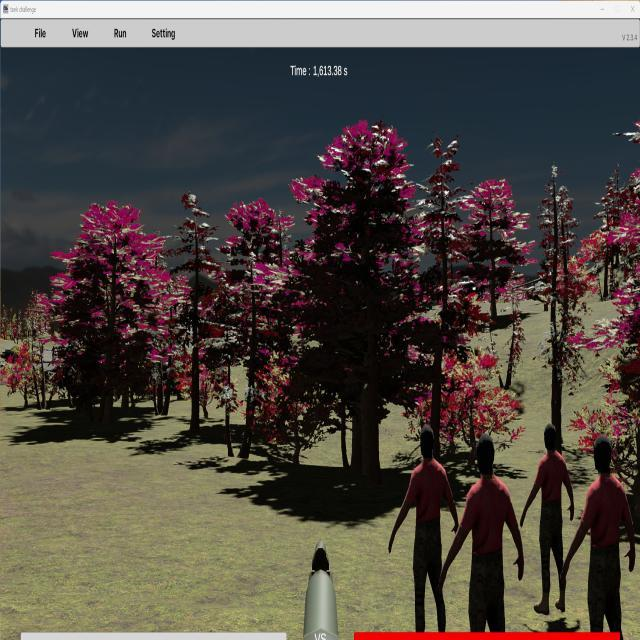Human: (439, 432, 525, 637), (388, 422, 460, 637), (563, 434, 637, 639), (520, 422, 575, 616)
